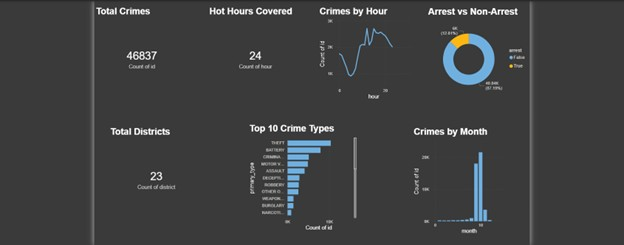

The page's visual inventory and layout, read from the dashboard file:
{"tool":"powerbi","page":{"name":"Page 1","canvas":[1280,720],"ordinal":0},"visuals":[{"type":"card","title":"Total Crimes","fields":{"Values":["CountNonNull(chicago_crime_clean.id)"]},"box":[0,14.9,279.9,279.9],"z":0},{"type":"card","title":"Total Districts","fields":{"Values":["Count(chicago_crime_clean.district)"]},"box":[43,369,280,280],"z":1},{"type":"card","title":"Hot Hours Covered","fields":{"Values":["Count(chicago_crime_clean.hour)"]},"box":[333,14.9,279.9,279.9],"z":2},{"type":"clusteredBarChart","title":"Top 10 Crime Types","fields":{"Category":["chicago_crime_clean.primary_type"],"Y":["CountNonNull(chicago_crime_clean.id)"]},"box":[450.6,359.5,324.7,321.4],"z":3},{"type":"lineChart","title":"Crimes by Hour","fields":{"Category":["chicago_crime_clean.hour"],"Y":["CountNonNull(chicago_crime_clean.id)"]},"box":[657.6,14.9,279.9,279.9],"z":4},{"type":"clusteredColumnChart","title":"Crimes by Month","fields":{"Category":["chicago_crime_clean.month"],"Y":["CountNonNull(chicago_crime_clean.id)"]},"box":[934.3,369.4,279.9,321.4],"z":5},{"type":"donutChart","title":"Arrest vs Non-Arrest","fields":{"Category":["chicago_crime_clean.arrest"],"Y":["CountNonNull(chicago_crime_clean.id)"]},"box":[975.7,16.6,304.8,279.9],"z":6}]}

Visuals, with their boxes on the page's 1280x720 design canvas (x1, y1, x2, y2). These are canvas units, not pixel positions in the 624x245 screenshot, which may show the page scaled, cropped or inside an application window:
"Total Crimes" card: left=0, top=15, right=280, bottom=295
"Total Districts" card: left=43, top=369, right=323, bottom=649
"Hot Hours Covered" card: left=333, top=15, right=613, bottom=295
"Top 10 Crime Types" clusteredBarChart: left=451, top=360, right=775, bottom=681
"Crimes by Hour" lineChart: left=658, top=15, right=938, bottom=295
"Crimes by Month" clusteredColumnChart: left=934, top=369, right=1214, bottom=691
"Arrest vs Non-Arrest" donutChart: left=976, top=17, right=1280, bottom=296
